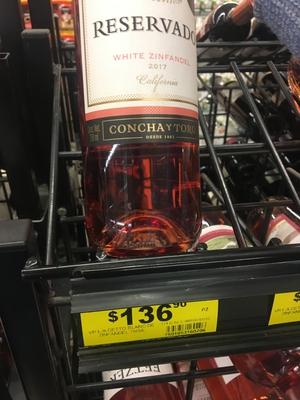reservado white zinfandel: (70, 1, 204, 263)
